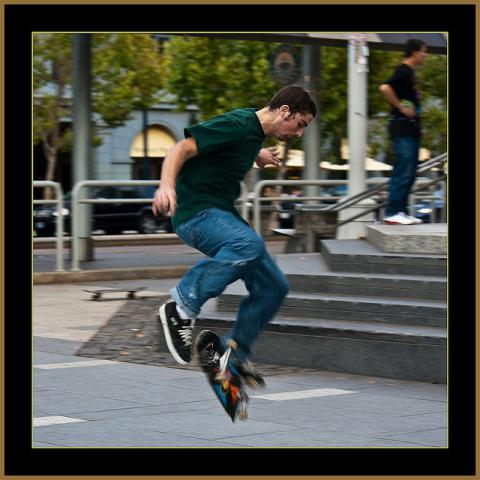car: (35, 180, 163, 237), (277, 185, 349, 227)
